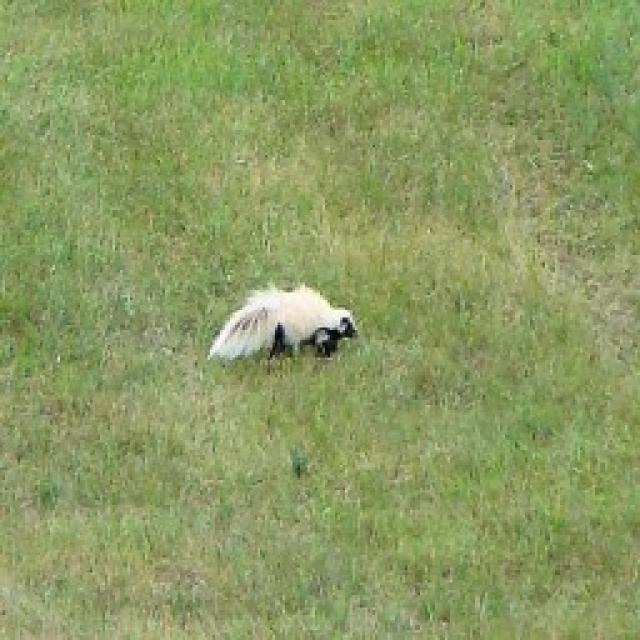not_pig: (202, 280, 360, 365)
